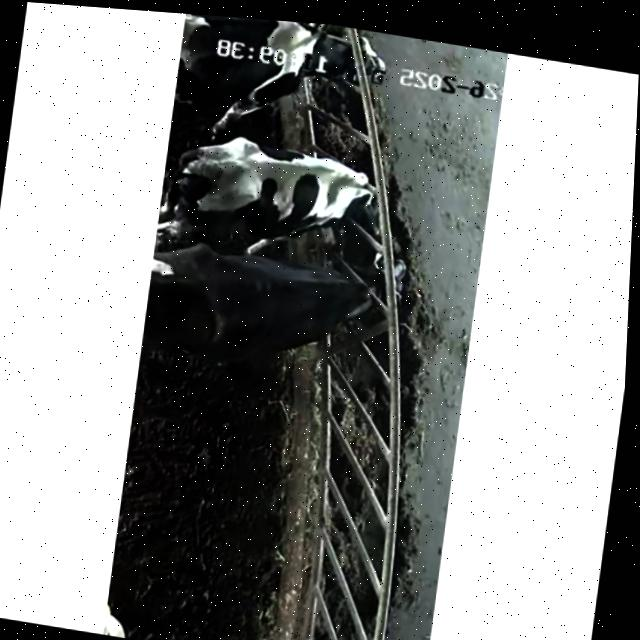eat: (230, 233, 448, 376), (219, 17, 433, 128), (272, 137, 439, 257)
